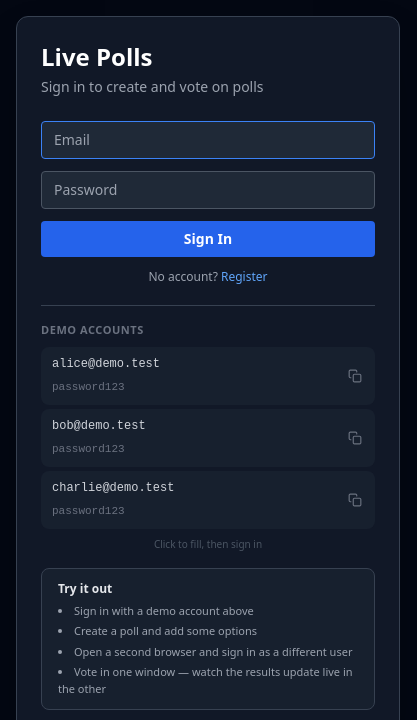
Test case: AuthForm › can switch back to login mode from register mode
Click the button "Register" at (244, 277), box [221,269,268,285]
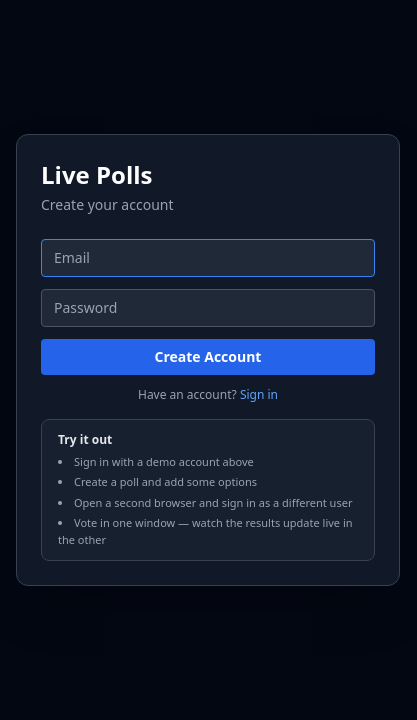
Click the button "Sign in" at (259, 395), box [240,387,278,403]
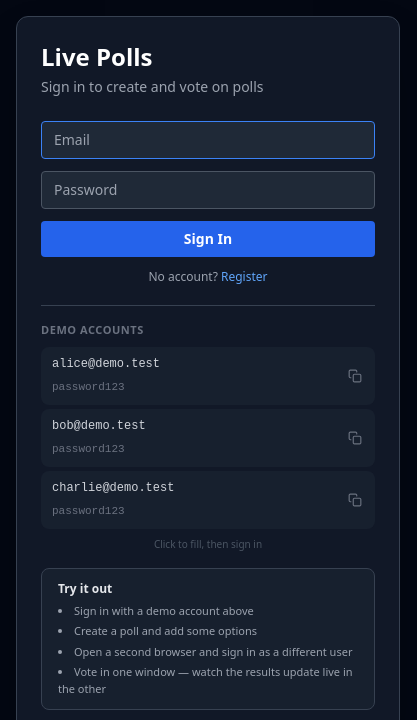
Expected: the button "Sign In" is shown, [41,221,375,257]
